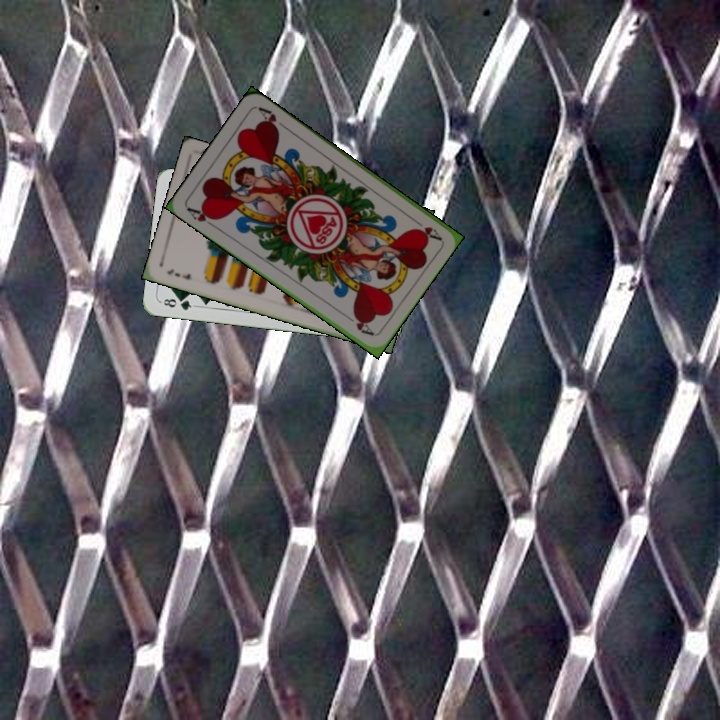E7: (163, 265, 193, 282)
G8: (157, 294, 198, 313)
HA: (407, 213, 443, 242), (183, 203, 220, 231)
